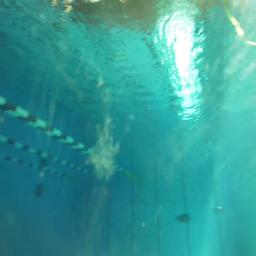Full: (175, 212, 191, 223), (213, 206, 224, 212)
